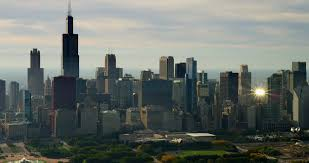willis: (56, 2, 83, 76)
